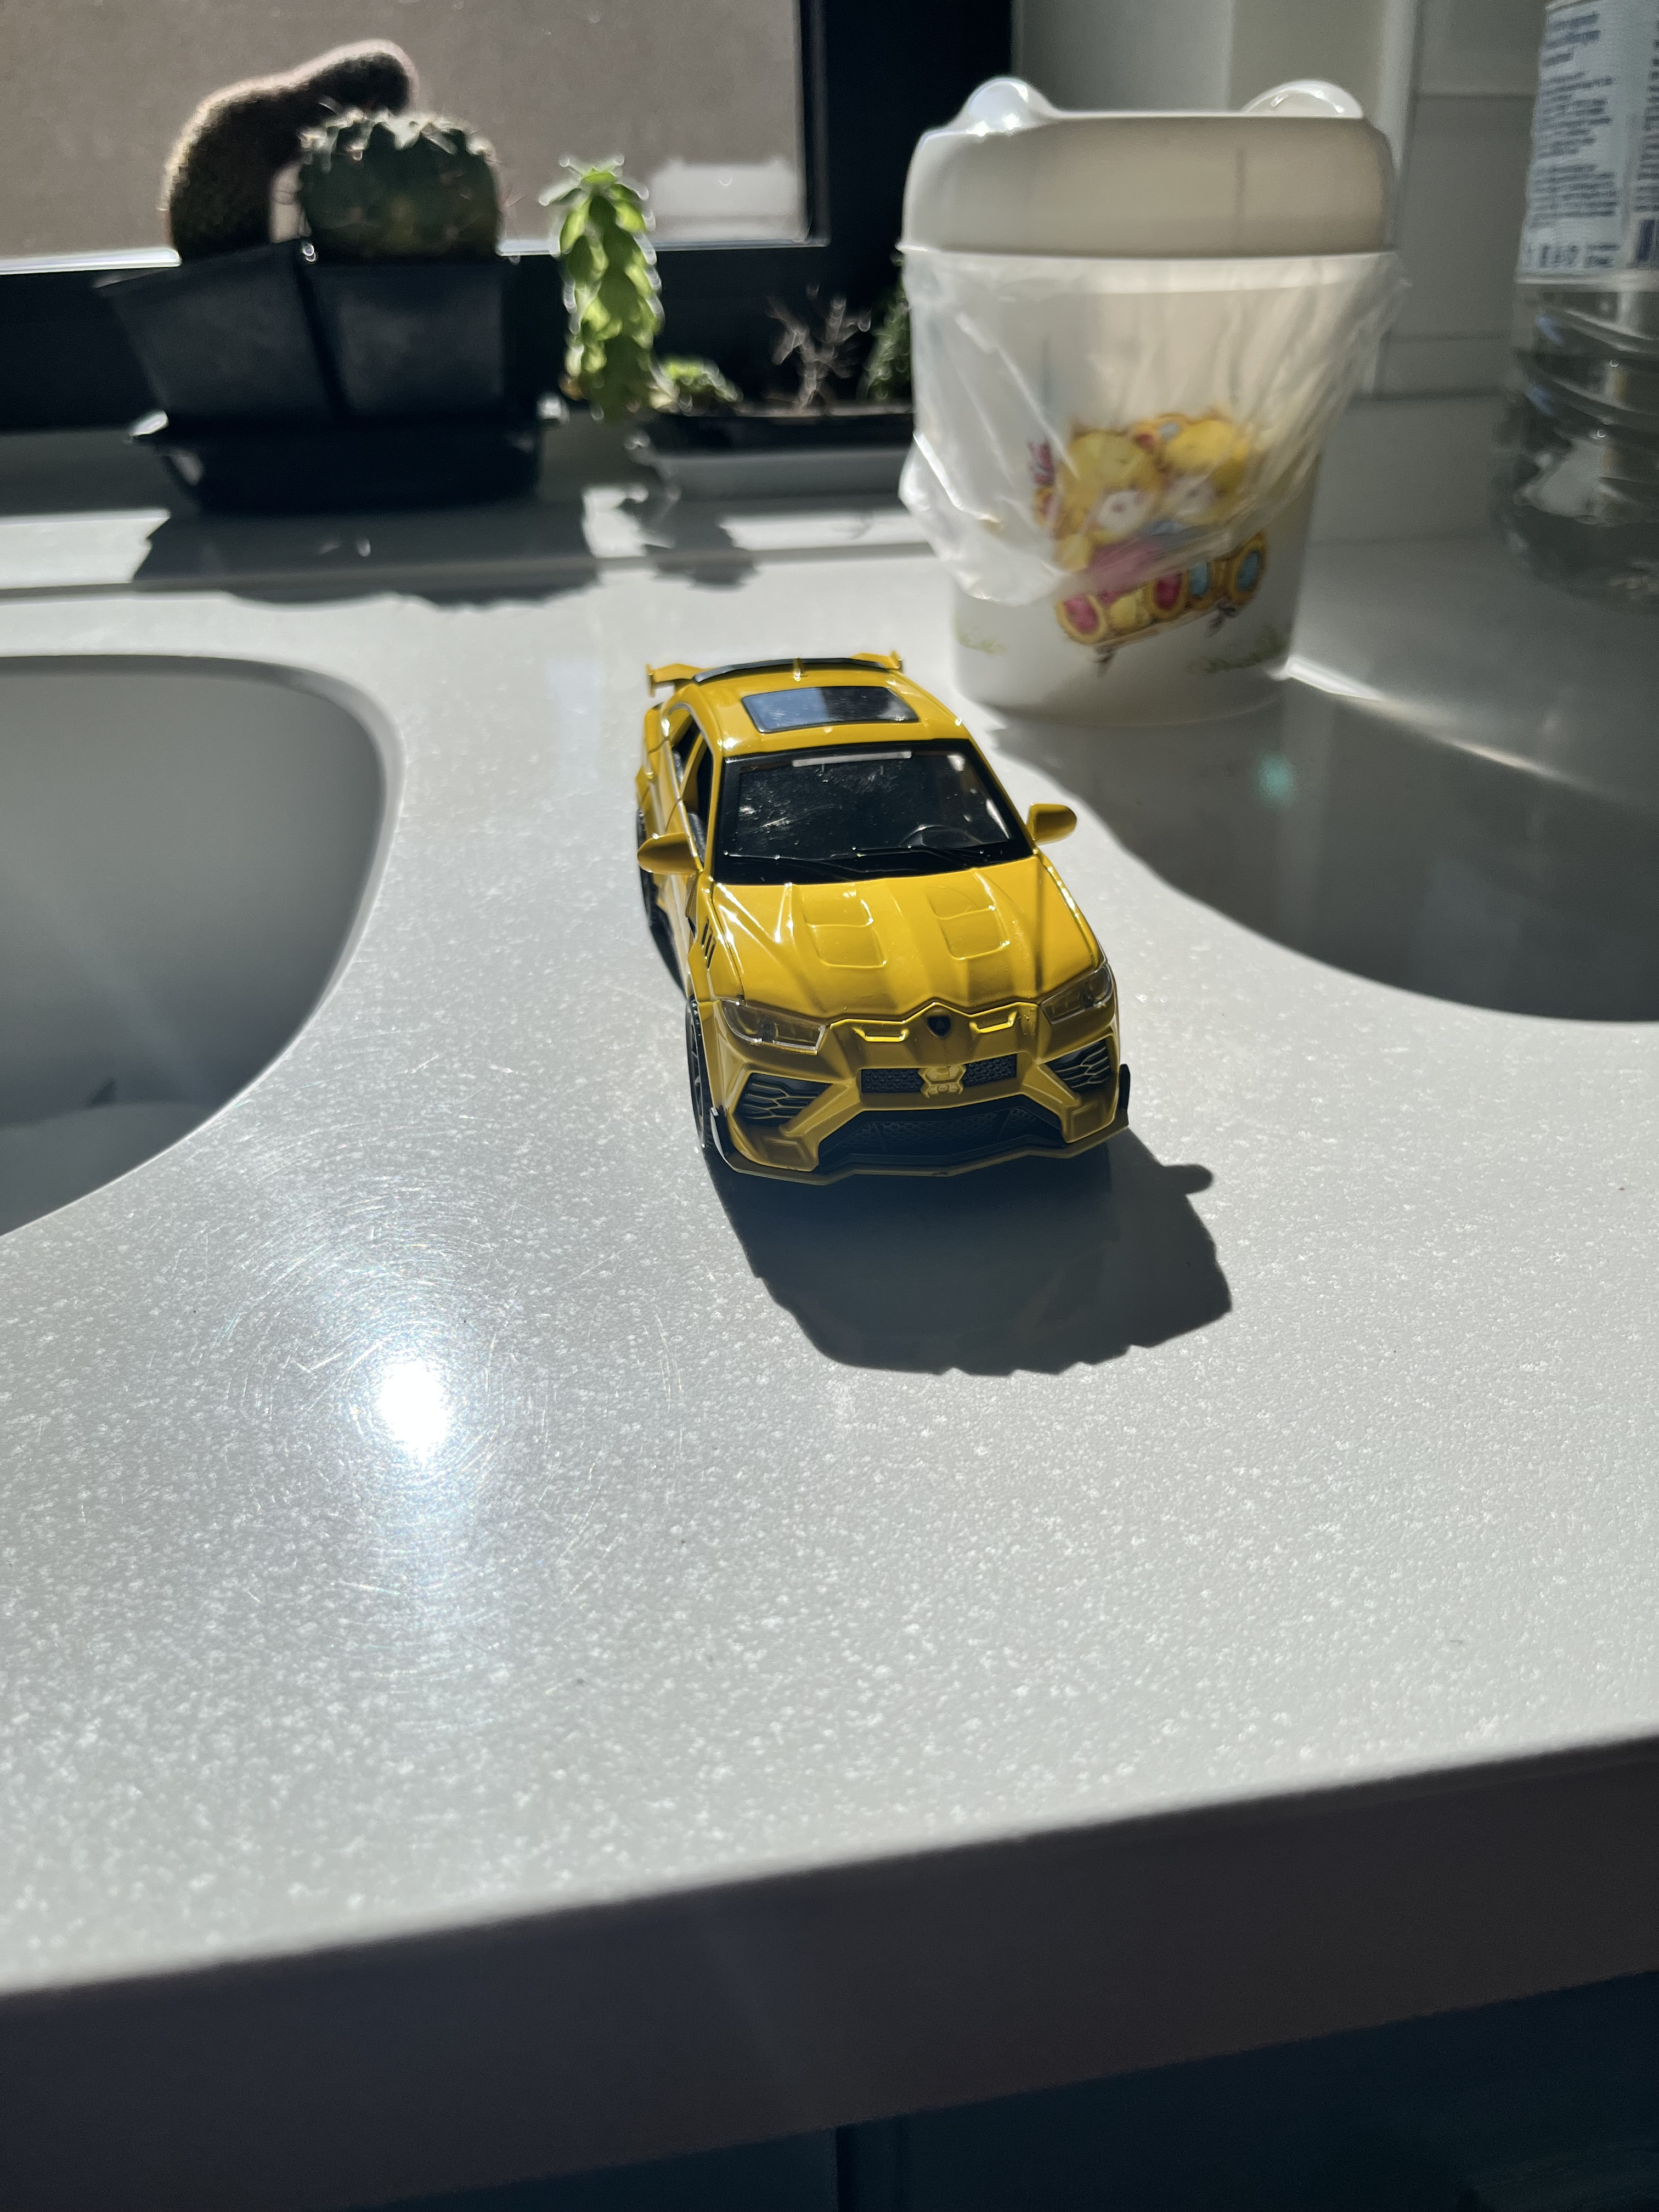lambo: (636, 648, 1131, 1186)
